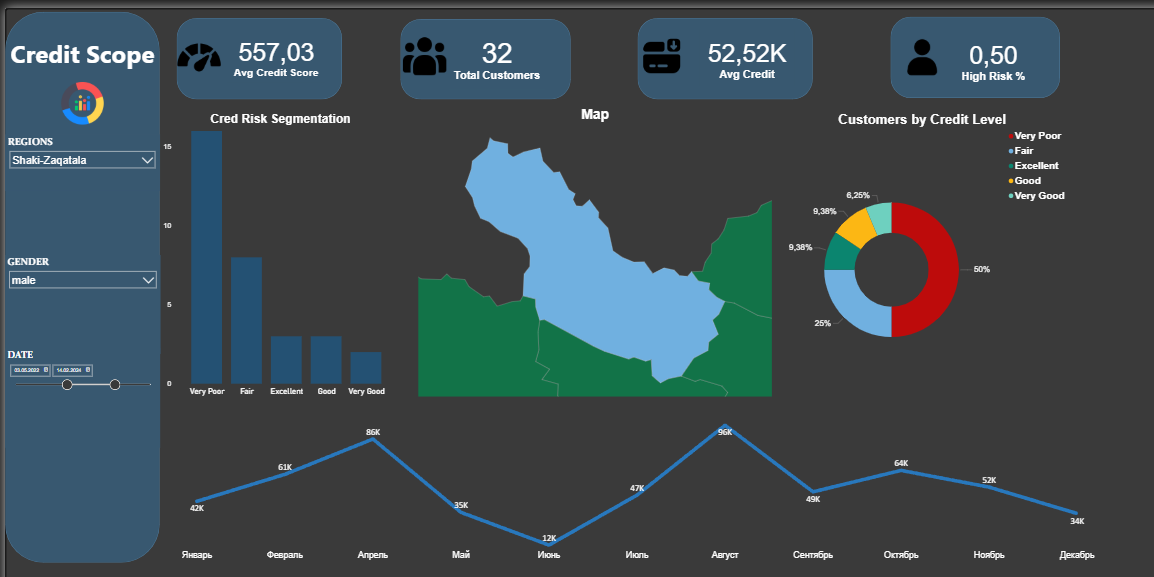

Layout of this report page (visuals, bound fields, positions):
{"tool":"powerbi","page":{"name":"CUSTOMER","canvas":[6000,3000],"ordinal":0},"visuals":[{"type":"donutChart","title":"Customers by Credit Level","fields":{"Y":["таблица.Customer Count"],"Category":["table.CreditLevel"]},"box":[1858.8,250,717.6,729.4],"z":0},{"type":"shape","box":[0,8.8,373.5,1332.4],"z":1000},{"type":"slicer","title":"GENDER","fields":{"Values":["table.Gender"]},"box":[0,597,375.8,239.4],"z":2000},{"type":"shape","box":[955.9,26.5,411.8,194.1],"z":3000},{"type":"card","fields":{"Values":["table.Customer Count"]},"box":[1073.5,41.2,232.4,155.9],"z":4000},{"type":"shape","box":[414.7,23.5,400,197.1],"z":5000},{"type":"card","fields":{"Values":["Avg(table.CreditScore)"]},"box":[538.2,52.9,235.3,126.5],"z":6000},{"type":"image","box":[376.5,61.8,185.3,114.7],"z":7000},{"type":"clusteredColumnChart","title":"Cred Risk Segmentation","fields":{"Y":["table.Customer Count"],"Category":["table.CreditLevel"]},"box":[376.5,250,579.4,694.1],"z":8000},{"type":"image","box":[128.2,174.4,115.4,112.8],"z":9000},{"type":"slicer","title":"REGIONS","fields":{"Values":["table.cities"]},"box":[0,305.1,374.4,135.9],"z":10000},{"type":"shape","box":[1529.4,23.5,423.5,197.1],"z":11000},{"type":"card","fields":{"Values":["table.AvgCredit"]},"box":[1679.4,50,229.4,138.2],"z":12000},{"type":"shape","box":[2141.9,19.4,409.7,196.8],"z":13000},{"type":"image","box":[2167.6,55.9,100,126.5],"z":14000},{"type":"image","box":[1529.4,55.9,120.6,126.5],"z":15000},{"type":"lineChart","fields":{"Category":["DateTable.Date.Variation.Иерархия дат.Месяц"],"Y":["table.AvgCredit"]},"box":[372.7,978.8,2309.1,363.6],"z":16000},{"type":"textbox","box":[0,64.1,374.4,207.7],"z":17000},{"type":"image","box":[955.9,58.8,117.6,114.7],"z":18000},{"type":"card","fields":{"Values":["DateTable.High Risk %"]},"box":[2267.6,50,244.1,147.1],"z":19000},{"type":"slicer","title":"DATE","fields":{"Values":["table.JoinDate"]},"box":[54.5,836.4,372.7,236.4],"z":20000},{"type":"shapeMap","title":"Map","fields":{"Value":["table.AverageCreditAmount"],"Category":["table.cities"],"Series":["table.Gender"]},"box":[994.1,238.2,864.7,705.9],"z":21001}]}

Visuals, with their boxes in screenshot pixels (x1, y1, x2, y2), scaled from the page's 6000x3000 canvas onto the 1154x577 screenshot:
"Customers by Credit Level" donutChart: {"x1": 358, "y1": 48, "x2": 496, "y2": 188}
shape: {"x1": 0, "y1": 2, "x2": 72, "y2": 258}
"GENDER" slicer: {"x1": 0, "y1": 115, "x2": 72, "y2": 161}
shape: {"x1": 184, "y1": 5, "x2": 263, "y2": 42}
card - table.Customer Count: {"x1": 206, "y1": 8, "x2": 251, "y2": 38}
shape: {"x1": 80, "y1": 5, "x2": 157, "y2": 42}
card - Avg(table.CreditScore): {"x1": 104, "y1": 10, "x2": 149, "y2": 35}
image: {"x1": 72, "y1": 12, "x2": 108, "y2": 34}
"Cred Risk Segmentation" clusteredColumnChart: {"x1": 72, "y1": 48, "x2": 184, "y2": 182}
image: {"x1": 25, "y1": 34, "x2": 47, "y2": 55}
"REGIONS" slicer: {"x1": 0, "y1": 59, "x2": 72, "y2": 85}
shape: {"x1": 294, "y1": 5, "x2": 376, "y2": 42}
card - table.AvgCredit: {"x1": 323, "y1": 10, "x2": 367, "y2": 36}
shape: {"x1": 412, "y1": 4, "x2": 491, "y2": 42}
image: {"x1": 417, "y1": 11, "x2": 436, "y2": 35}
image: {"x1": 294, "y1": 11, "x2": 317, "y2": 35}
lineChart - DateTable.Date.Variation.Иерархия дат.Месяц x table.AvgCredit: {"x1": 72, "y1": 188, "x2": 516, "y2": 258}
textbox: {"x1": 0, "y1": 12, "x2": 72, "y2": 52}
image: {"x1": 184, "y1": 11, "x2": 206, "y2": 33}
card - DateTable.High Risk %: {"x1": 436, "y1": 10, "x2": 483, "y2": 38}
"DATE" slicer: {"x1": 10, "y1": 161, "x2": 82, "y2": 206}
"Map" shapeMap: {"x1": 191, "y1": 46, "x2": 358, "y2": 182}
